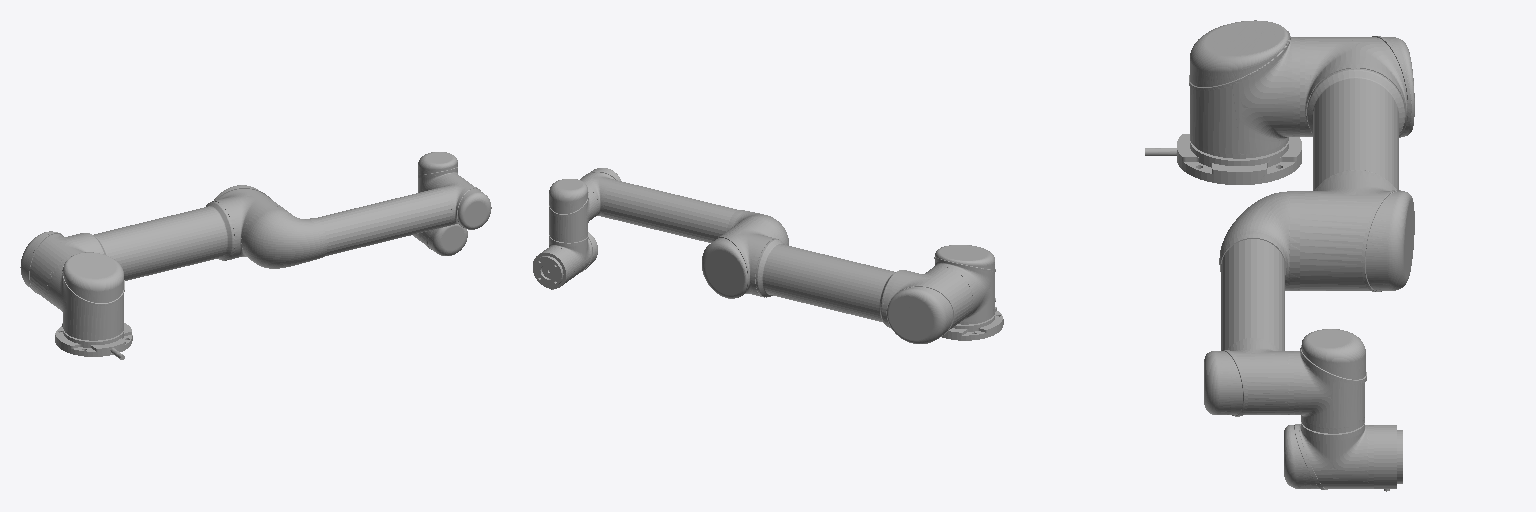
The robot description file, URDF, robot "ur5":
<?xml version="1.0" ?>
<!-- =================================================================================== -->
<!-- |    This document was autogenerated by xacro from /opt/ros/kinetic/share/ur_description/urdf/ur5_robot.urdf.xacro | -->
<!-- |    EDITING THIS FILE BY HAND IS NOT RECOMMENDED                                 | -->
<!-- =================================================================================== -->
<robot name="ur5" xmlns:xacro="http://ros.org/wiki/xacro">
  <gazebo>
    <plugin filename="libgazebo_ros_control.so" name="ros_control">
      <!--robotNamespace>/</robotNamespace-->
      <!--robotSimType>gazebo_ros_control/DefaultRobotHWSim</robotSimType-->
    </plugin>
    <!--
    <plugin name="gazebo_ros_power_monitor_controller" filename="libgazebo_ros_power_monitor.so">
      <alwaysOn>true</alwaysOn>
      <updateRate>1.0</updateRate>
      <timeout>5</timeout>
      <powerStateTopic>power_state</powerStateTopic>
      <powerStateRate>10.0</powerStateRate>
      <fullChargeCapacity>87.78</fullChargeCapacity>     
      <dischargeRate>-474</dischargeRate>
      <chargeRate>525</chargeRate>
      <dischargeVoltage>15.52</dischargeVoltage>
      <chargeVoltage>16.41</chargeVoltage>
    </plugin>
-->
  </gazebo>
  <!-- measured from model -->
  <!--property name="shoulder_height" value="0.089159" /-->
  <!--property name="shoulder_offset" value="0.13585" /-->
  <!-- shoulder_offset - elbow_offset + wrist_1_length = 0.10915 -->
  <!--property name="upper_arm_length" value="0.42500" /-->
  <!--property name="elbow_offset" value="0.1197" /-->
  <!-- CAD measured -->
  <!--property name="forearm_length" value="0.39225" /-->
  <!--property name="wrist_1_length" value="0.093" /-->
  <!-- CAD measured -->
  <!--property name="wrist_2_length" value="0.09465" /-->
  <!-- In CAD this distance is 0.930, but in the spec it is 0.09465 -->
  <!--property name="wrist_3_length" value="0.0823" /-->
  <!-- manually measured -->
  <link name="base_link">
    <visual>
      <geometry>
        <mesh filename="package://ur_description/meshes/ur5/visual/base.obj"/>
      </geometry>
      <material name="LightGrey">
        <color rgba="0.7 0.7 0.7 1.0"/>
      </material>
    </visual>
    <collision>
      <geometry>
        <mesh filename="package://ur_description/meshes/ur5/collision/base.stl"/>
      </geometry>
    </collision>
    <inertial>
      <mass value="4.0"/>
      <origin rpy="0 0 0" xyz="0.0 0.0 0.0"/>
      <inertia ixx="0.00443333156" ixy="0.0" ixz="0.0" iyy="0.00443333156" iyz="0.0" izz="0.0072"/>
    </inertial>
  </link>
  <joint name="shoulder_pan_joint" type="revolute">
    <parent link="base_link"/>
    <child link="shoulder_link"/>
    <origin rpy="0.0 0.0 0.0" xyz="0.0 0.0 0.089159"/>
    <axis xyz="0 0 1"/>
    <limit effort="150.0" lower="-6.2831853" upper="6.2831853" velocity="3.15"/>
    <dynamics damping="0.0" friction="0.0"/>
  </joint>
  <link name="shoulder_link">
    <visual>
      <geometry>
        <mesh filename="package://ur_description/meshes/ur5/visual/shoulder.obj"/>
      </geometry>
      <material name="LightGrey">
        <color rgba="0.7 0.7 0.7 1.0"/>
      </material>
    </visual>
    <collision>
      <geometry>
        <mesh filename="package://ur_description/meshes/ur5/collision/shoulder.stl"/>
      </geometry>
    </collision>
    <inertial>
      <mass value="3.7"/>
      <origin rpy="0 0 0" xyz="0.0 0.0 0.0"/>
      <inertia ixx="0.010267495893" ixy="0.0" ixz="0.0" iyy="0.010267495893" iyz="0.0" izz="0.00666"/>
    </inertial>
  </link>
  <joint name="shoulder_lift_joint" type="revolute">
    <parent link="shoulder_link"/>
    <child link="upper_arm_link"/>
    <origin rpy="0.0 1.570796325 0.0" xyz="0.0 0.13585 0.0"/>
    <axis xyz="0 1 0"/>
    <limit effort="150.0" lower="-6.2831853" upper="6.2831853" velocity="3.15"/>
    <dynamics damping="0.0" friction="0.0"/>
  </joint>
  <link name="upper_arm_link">
    <visual>
      <geometry>
        <mesh filename="package://ur_description/meshes/ur5/visual/upperarm.obj"/>
      </geometry>
      <material name="LightGrey">
        <color rgba="0.7 0.7 0.7 1.0"/>
      </material>
    </visual>
    <collision>
      <geometry>
        <mesh filename="package://ur_description/meshes/ur5/collision/upperarm.stl"/>
      </geometry>
    </collision>
    <inertial>
      <mass value="8.393"/>
      <origin rpy="0 0 0" xyz="0.0 0.0 0.28"/>
      <inertia ixx="0.22689067591" ixy="0.0" ixz="0.0" iyy="0.22689067591" iyz="0.0" izz="0.0151074"/>
    </inertial>
  </link>
  <joint name="elbow_joint" type="revolute">
    <parent link="upper_arm_link"/>
    <child link="forearm_link"/>
    <origin rpy="0.0 0.0 0.0" xyz="0.0 -0.1197 0.425"/>
    <axis xyz="0 1 0"/>
    <limit effort="150.0" lower="-6.2831853" upper="6.2831853" velocity="3.15"/>
    <dynamics damping="0.0" friction="0.0"/>
  </joint>
  <link name="forearm_link">
    <visual>
      <geometry>
        <mesh filename="package://ur_description/meshes/ur5/visual/forearm.obj"/>
      </geometry>
      <material name="LightGrey">
        <color rgba="0.7 0.7 0.7 1.0"/>
      </material>
    </visual>
    <collision>
      <geometry>
        <mesh filename="package://ur_description/meshes/ur5/collision/forearm.stl"/>
      </geometry>
    </collision>
    <inertial>
      <mass value="2.275"/>
      <origin rpy="0 0 0" xyz="0.0 0.0 0.25"/>
      <inertia ixx="0.049443313556" ixy="0.0" ixz="0.0" iyy="0.049443313556" iyz="0.0" izz="0.004095"/>
    </inertial>
  </link>
  <joint name="wrist_1_joint" type="revolute">
    <parent link="forearm_link"/>
    <child link="wrist_1_link"/>
    <origin rpy="0.0 1.570796325 0.0" xyz="0.0 0.0 0.39225"/>
    <axis xyz="0 1 0"/>
    <limit effort="28.0" lower="-6.2831853" upper="6.2831853" velocity="3.2"/>
    <dynamics damping="0.0" friction="0.0"/>
  </joint>
  <link name="wrist_1_link">
    <visual>
      <geometry>
        <mesh filename="package://ur_description/meshes/ur5/visual/wrist1.obj"/>
      </geometry>
      <material name="LightGrey">
        <color rgba="0.7 0.7 0.7 1.0"/>
      </material>
    </visual>
    <collision>
      <geometry>
        <mesh filename="package://ur_description/meshes/ur5/collision/wrist1.stl"/>
      </geometry>
    </collision>
    <inertial>
      <mass value="1.219"/>
      <origin rpy="0 0 0" xyz="0.0 0.0 0.0"/>
      <inertia ixx="0.111172755531" ixy="0.0" ixz="0.0" iyy="0.111172755531" iyz="0.0" izz="0.21942"/>
    </inertial>
  </link>
  <joint name="wrist_2_joint" type="revolute">
    <parent link="wrist_1_link"/>
    <child link="wrist_2_link"/>
    <origin rpy="0.0 0.0 0.0" xyz="0.0 0.093 0.0"/>
    <axis xyz="0 0 1"/>
    <limit effort="28.0" lower="-6.2831853" upper="6.2831853" velocity="3.2"/>
    <dynamics damping="0.0" friction="0.0"/>
  </joint>
  <link name="wrist_2_link">
    <visual>
      <geometry>
        <mesh filename="package://ur_description/meshes/ur5/visual/wrist2.obj"/>
      </geometry>
      <material name="LightGrey">
        <color rgba="0.7 0.7 0.7 1.0"/>
      </material>
    </visual>
    <collision>
      <geometry>
        <mesh filename="package://ur_description/meshes/ur5/collision/wrist2.stl"/>
      </geometry>
    </collision>
    <inertial>
      <mass value="1.219"/>
      <origin rpy="0 0 0" xyz="0.0 0.0 0.0"/>
      <inertia ixx="0.111172755531" ixy="0.0" ixz="0.0" iyy="0.111172755531" iyz="0.0" izz="0.21942"/>
    </inertial>
  </link>
  <joint name="wrist_3_joint" type="revolute">
    <parent link="wrist_2_link"/>
    <child link="wrist_3_link"/>
    <origin rpy="0.0 0.0 0.0" xyz="0.0 0.0 0.09465"/>
    <axis xyz="0 1 0"/>
    <limit effort="28.0" lower="-6.2831853" upper="6.2831853" velocity="3.2"/>
    <dynamics damping="0.0" friction="0.0"/>
  </joint>
  <link name="wrist_3_link">
    <visual>
      <geometry>
        <mesh filename="package://ur_description/meshes/ur5/visual/wrist3.obj"/>
      </geometry>
      <material name="LightGrey">
        <color rgba="0.7 0.7 0.7 1.0"/>
      </material>
    </visual>
    <collision>
      <geometry>
        <mesh filename="package://ur_description/meshes/ur5/collision/wrist3.stl"/>
      </geometry>
    </collision>
    <inertial>
      <mass value="0.1879"/>
      <origin rpy="0 0 0" xyz="0.0 0.0 0.0"/>
      <inertia ixx="0.0171364731454" ixy="0.0" ixz="0.0" iyy="0.0171364731454" iyz="0.0" izz="0.033822"/>
    </inertial>
  </link>
  <joint name="ee_fixed_joint" type="fixed">
    <parent link="wrist_3_link"/>
    <child link="ee_link"/>
    <origin rpy="0.0 0.0 1.570796325" xyz="0.0 0.0823 0.0"/>
  </joint>
  <link name="ee_link">
    <collision>
      <geometry>
        <box size="0.01 0.01 0.01"/>
      </geometry>
      <origin rpy="0 0 0" xyz="-0.01 0 0"/>
    </collision>
  </link>
  <transmission name="shoulder_pan_trans">
    <type>transmission_interface/SimpleTransmission</type>
    <joint name="shoulder_pan_joint">
      <hardwareInterface>PositionJointInterface</hardwareInterface>
    </joint>
    <actuator name="shoulder_pan_motor">
      <mechanicalReduction>1</mechanicalReduction>
    </actuator>
  </transmission>
  <transmission name="shoulder_lift_trans">
    <type>transmission_interface/SimpleTransmission</type>
    <joint name="shoulder_lift_joint">
      <hardwareInterface>PositionJointInterface</hardwareInterface>
    </joint>
    <actuator name="shoulder_lift_motor">
      <mechanicalReduction>1</mechanicalReduction>
    </actuator>
  </transmission>
  <transmission name="elbow_trans">
    <type>transmission_interface/SimpleTransmission</type>
    <joint name="elbow_joint">
      <hardwareInterface>PositionJointInterface</hardwareInterface>
    </joint>
    <actuator name="elbow_motor">
      <mechanicalReduction>1</mechanicalReduction>
    </actuator>
  </transmission>
  <transmission name="wrist_1_trans">
    <type>transmission_interface/SimpleTransmission</type>
    <joint name="wrist_1_joint">
      <hardwareInterface>PositionJointInterface</hardwareInterface>
    </joint>
    <actuator name="wrist_1_motor">
      <mechanicalReduction>1</mechanicalReduction>
    </actuator>
  </transmission>
  <transmission name="wrist_2_trans">
    <type>transmission_interface/SimpleTransmission</type>
    <joint name="wrist_2_joint">
      <hardwareInterface>PositionJointInterface</hardwareInterface>
    </joint>
    <actuator name="wrist_2_motor">
      <mechanicalReduction>1</mechanicalReduction>
    </actuator>
  </transmission>
  <transmission name="wrist_3_trans">
    <type>transmission_interface/SimpleTransmission</type>
    <joint name="wrist_3_joint">
      <hardwareInterface>PositionJointInterface</hardwareInterface>
    </joint>
    <actuator name="wrist_3_motor">
      <mechanicalReduction>1</mechanicalReduction>
    </actuator>
  </transmission>
  <!-- nothing to do here at the moment -->
  <!-- ROS base_link to UR 'Base' Coordinates transform -->
  <link name="base"/>
  <joint name="base_link-base_fixed_joint" type="fixed">
    <!-- NOTE: this rotation is only needed as long as base_link itself is
                 not corrected wrt the real robot (ie: rotated over 180
                 degrees)
      -->
    <origin rpy="0 0 -3.14159265" xyz="0 0 0"/>
    <parent link="base_link"/>
    <child link="base"/>
  </joint>
  <!-- Frame coincident with all-zeros TCP on UR controller -->
  <link name="tool0"/>
  <joint name="wrist_3_link-tool0_fixed_joint" type="fixed">
    <origin rpy="-1.570796325 0 0" xyz="0 0.0823 0"/>
    <parent link="wrist_3_link"/>
    <child link="tool0"/>
  </joint>
  <link name="world"/>
  <joint name="world_joint" type="fixed">
    <parent link="world"/>
    <child link="base_link"/>
    <origin rpy="0.0 0.0 0.0" xyz="0.0 0.0 0.0"/>
  </joint>
</robot>

--- What the picture shows (computed from the rendered views, not written in the file) ---
Views: 3 orthographic renders of the robot side by side, from view 1: azimuth 30°, elevation 25°; view 2: azimuth 150°, elevation 25°; view 3: azimuth 270°, elevation 25°.
Model ur5 with 11 links and 10 joints (6 revolute, 4 fixed), rooted at world, posed every joint at zero.
Links seen in each view (by area): view 1: upper_arm_link, forearm_link, shoulder_link, base_link, wrist_1_link, wrist_2_link; view 2: upper_arm_link, forearm_link, shoulder_link, wrist_1_link, wrist_3_link, wrist_2_link, base_link; view 3: upper_arm_link, forearm_link, shoulder_link, wrist_1_link, wrist_2_link, base_link, wrist_3_link.
Boxes of the visible links, x1,y1,x2,y2 form: upper_arm_link: [20, 185, 283, 305]; forearm_link: [243, 175, 491, 268]; shoulder_link: [49, 252, 124, 340]; base_link: [55, 323, 132, 359]; wrist_1_link: [418, 152, 458, 192]; wrist_2_link: [413, 224, 467, 255]; upper_arm_link: [702, 220, 972, 343]; forearm_link: [580, 168, 788, 245]; shoulder_link: [933, 245, 995, 324]; wrist_1_link: [549, 179, 597, 242]; wrist_3_link: [533, 248, 572, 289]; wrist_2_link: [547, 232, 597, 279]; base_link: [942, 298, 1003, 340]; upper_arm_link: [1300, 36, 1414, 291]; forearm_link: [1204, 191, 1299, 416]; shoulder_link: [1189, 20, 1299, 158]; wrist_1_link: [1294, 329, 1366, 433]; wrist_2_link: [1284, 422, 1373, 489]; base_link: [1145, 134, 1301, 184]; wrist_3_link: [1374, 425, 1402, 491].
Bounding box of the posed robot: 0.9295 × 0.3144 × 0.2062 m (x, y, z).
7 mesh visuals loaded from 7 distinct referenced files (7 OBJ).